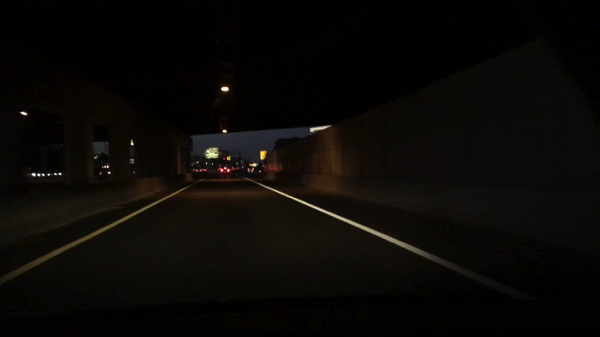car: (220, 166, 231, 174), (199, 167, 209, 173), (192, 167, 200, 174), (217, 166, 221, 173)
traffic sign: (204, 147, 219, 159), (260, 150, 267, 161), (226, 156, 230, 161)
